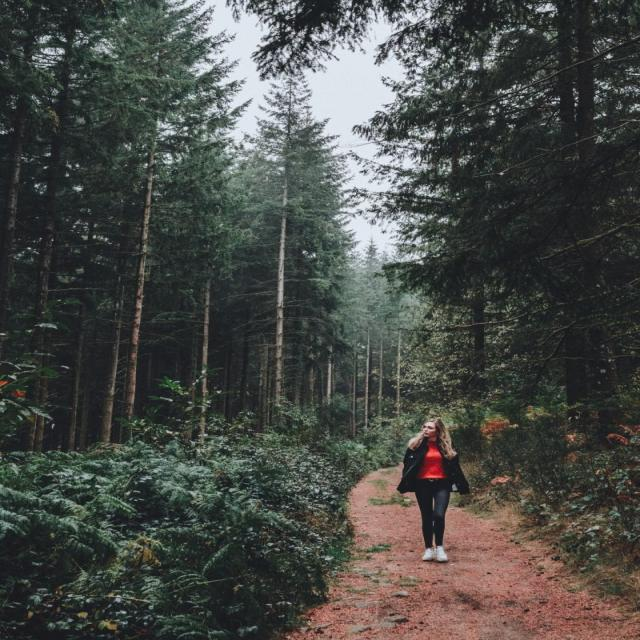standing: (396, 414, 475, 568)
